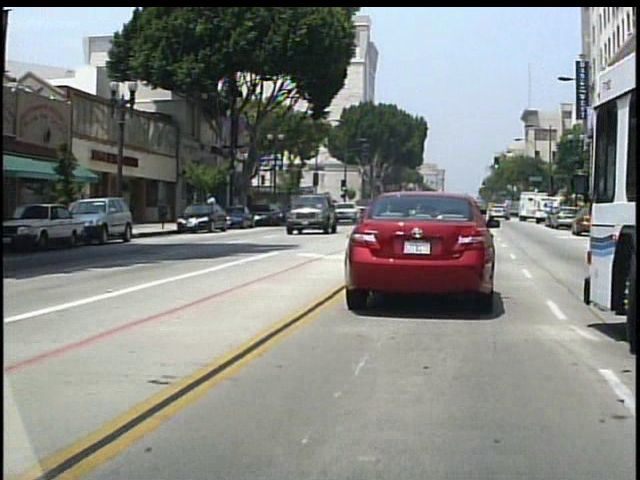person: (209, 191, 222, 224)
